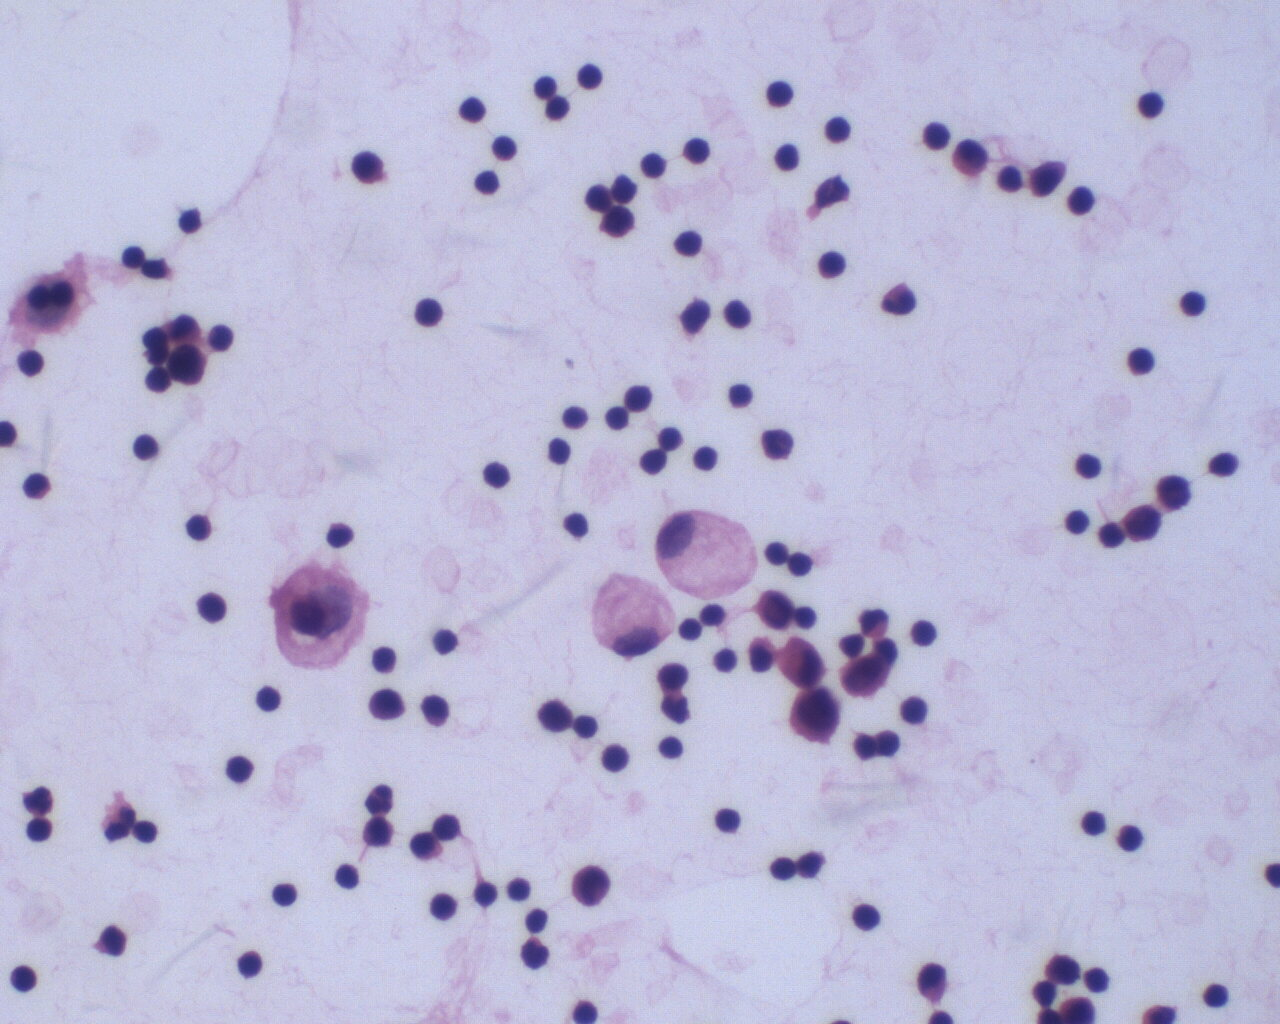ab: (785, 686, 844, 741), (836, 651, 890, 703)
histo: (654, 505, 758, 602), (583, 567, 679, 659)
lymph: (408, 290, 451, 328), (193, 587, 231, 629), (219, 750, 259, 789), (666, 226, 706, 263), (594, 740, 631, 779), (847, 900, 887, 936), (678, 131, 715, 169), (918, 116, 954, 156), (425, 886, 464, 922), (709, 805, 748, 840), (1121, 339, 1156, 378), (127, 430, 164, 467), (906, 615, 941, 653), (367, 639, 401, 678), (231, 945, 265, 982), (479, 456, 513, 493), (1076, 806, 1114, 840), (332, 856, 364, 897), (453, 89, 487, 126), (1134, 85, 1167, 121), (764, 77, 800, 111), (1083, 963, 1116, 998), (821, 110, 850, 150), (470, 166, 504, 200), (1070, 448, 1104, 481), (571, 59, 601, 95), (900, 690, 929, 726), (691, 442, 723, 474), (251, 682, 283, 715), (725, 377, 757, 411), (183, 506, 211, 542), (602, 404, 632, 436)
neutro: (879, 280, 926, 320), (18, 783, 60, 821), (359, 782, 399, 817)
